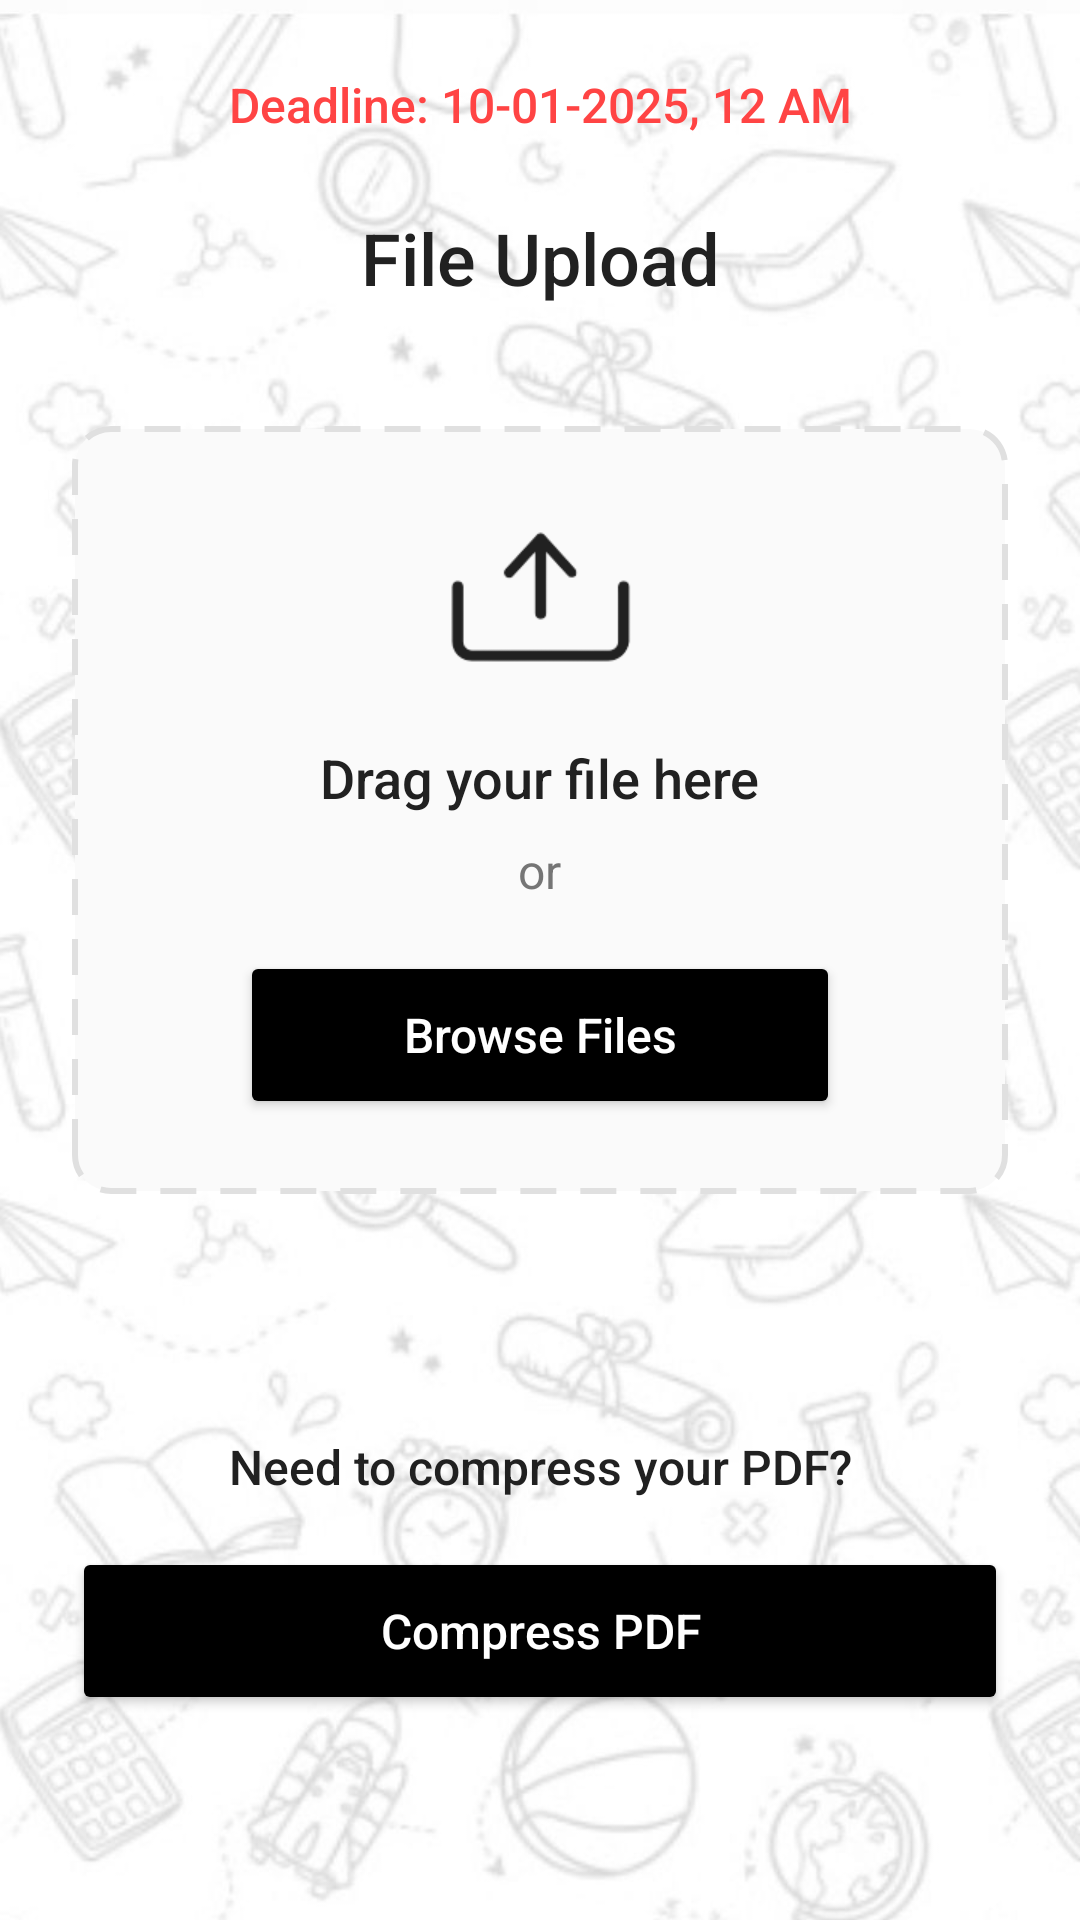

Icons on this 1080px x 1920px Android screen, each with the point to tap as point (x, y):
upload: point (540, 597)
